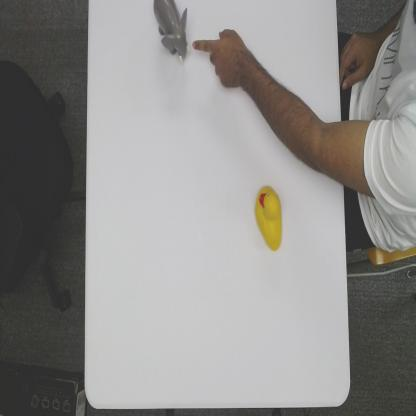Arm: (245, 54, 343, 178)
Duck: (254, 183, 284, 252)
Elephant: (152, 0, 191, 62)
Hand: (192, 24, 245, 93)
